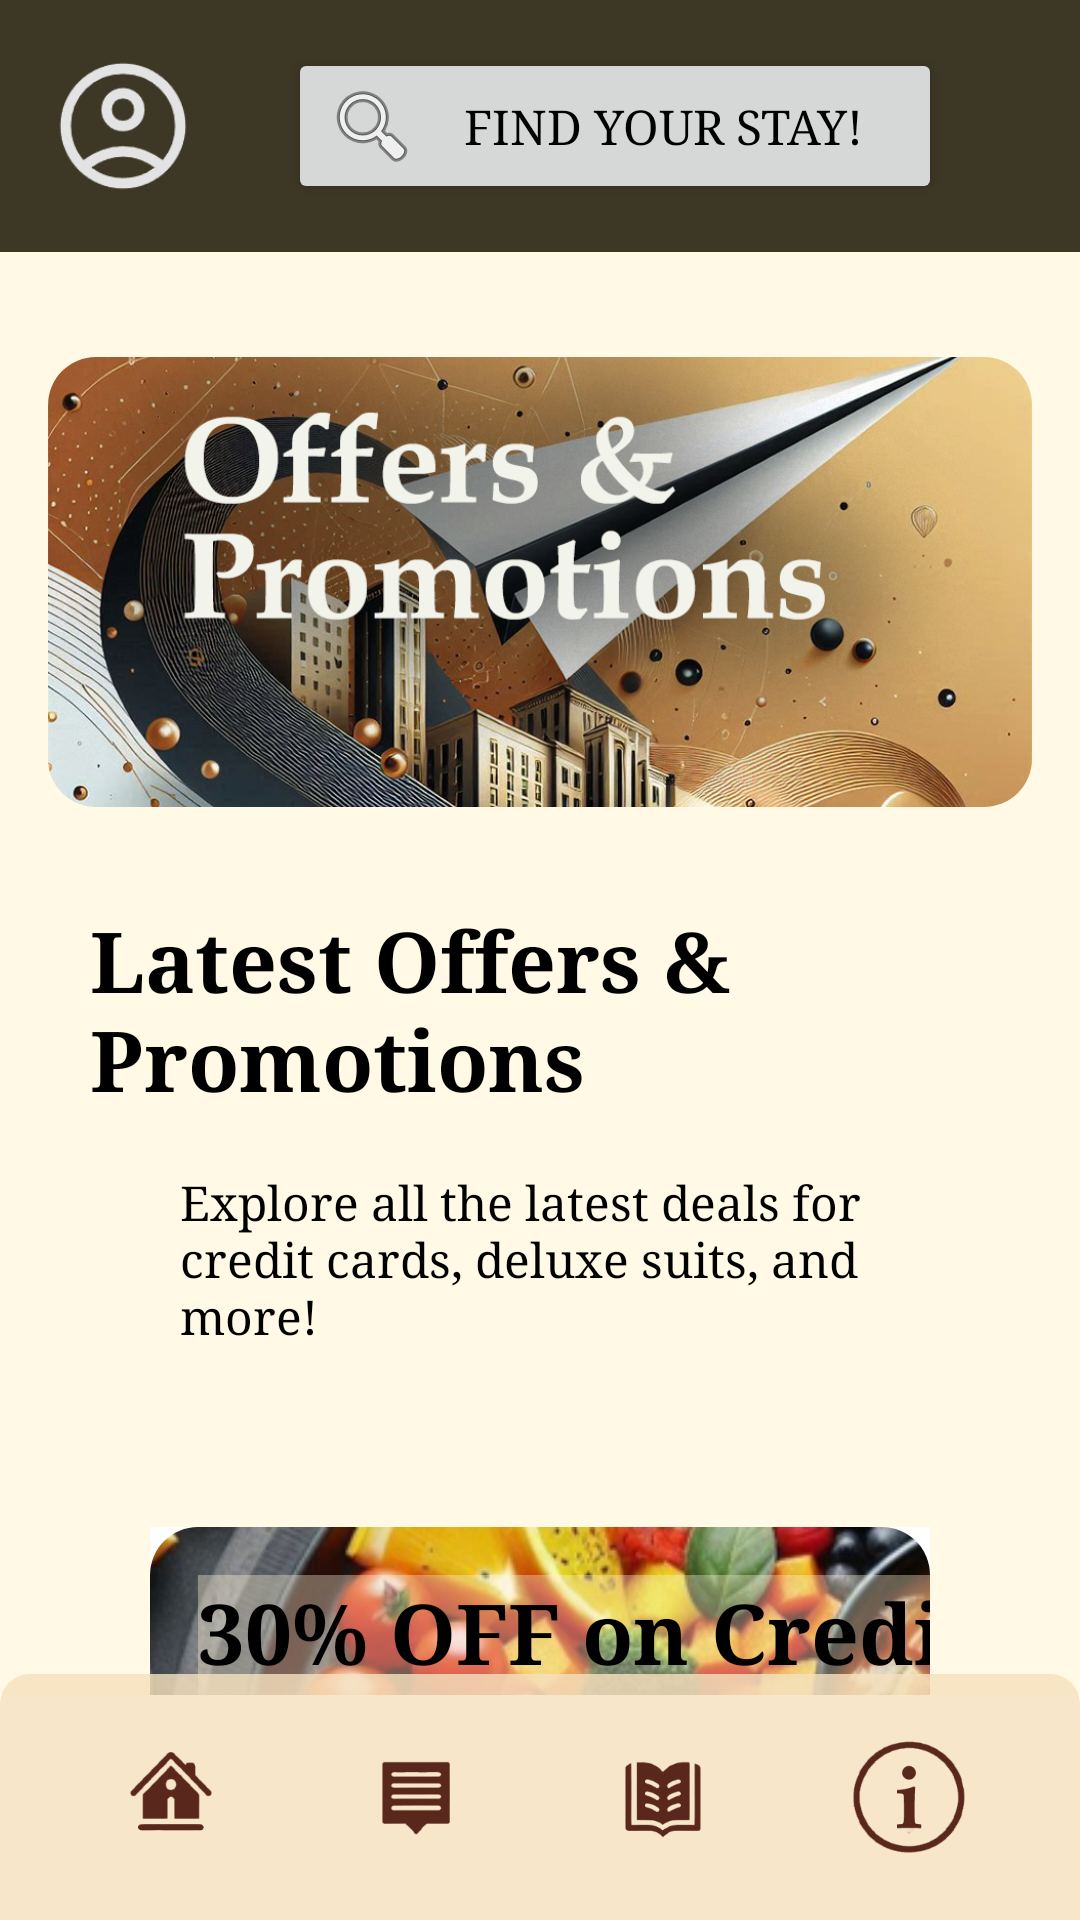

Where icons sit on this 1080 x 1920 app screen, as bbox=(x1, y1, x2, y2):
Home: bbox=(130, 1752, 212, 1831)
Information: bbox=(853, 1741, 965, 1853)
Profile: bbox=(60, 63, 186, 189)
